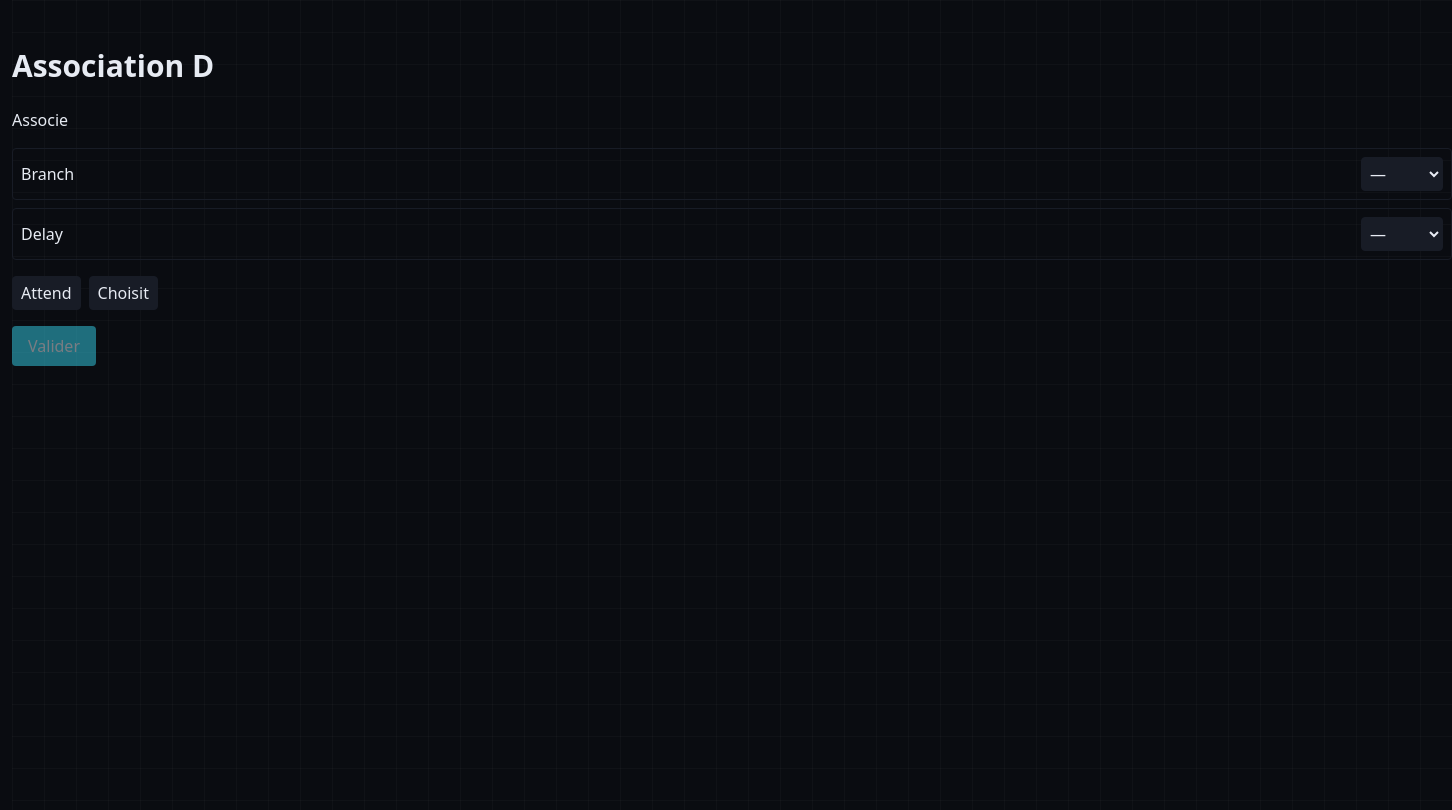
Test: ExerciseWorkspace › type D : un élément de droite ne sert qu'une fois
Select "Choisit" in the dropdown named "Associer Branch à" at {"x": 1402, "y": 174}, box top-left (1361, 157), bottom-right (1443, 191)
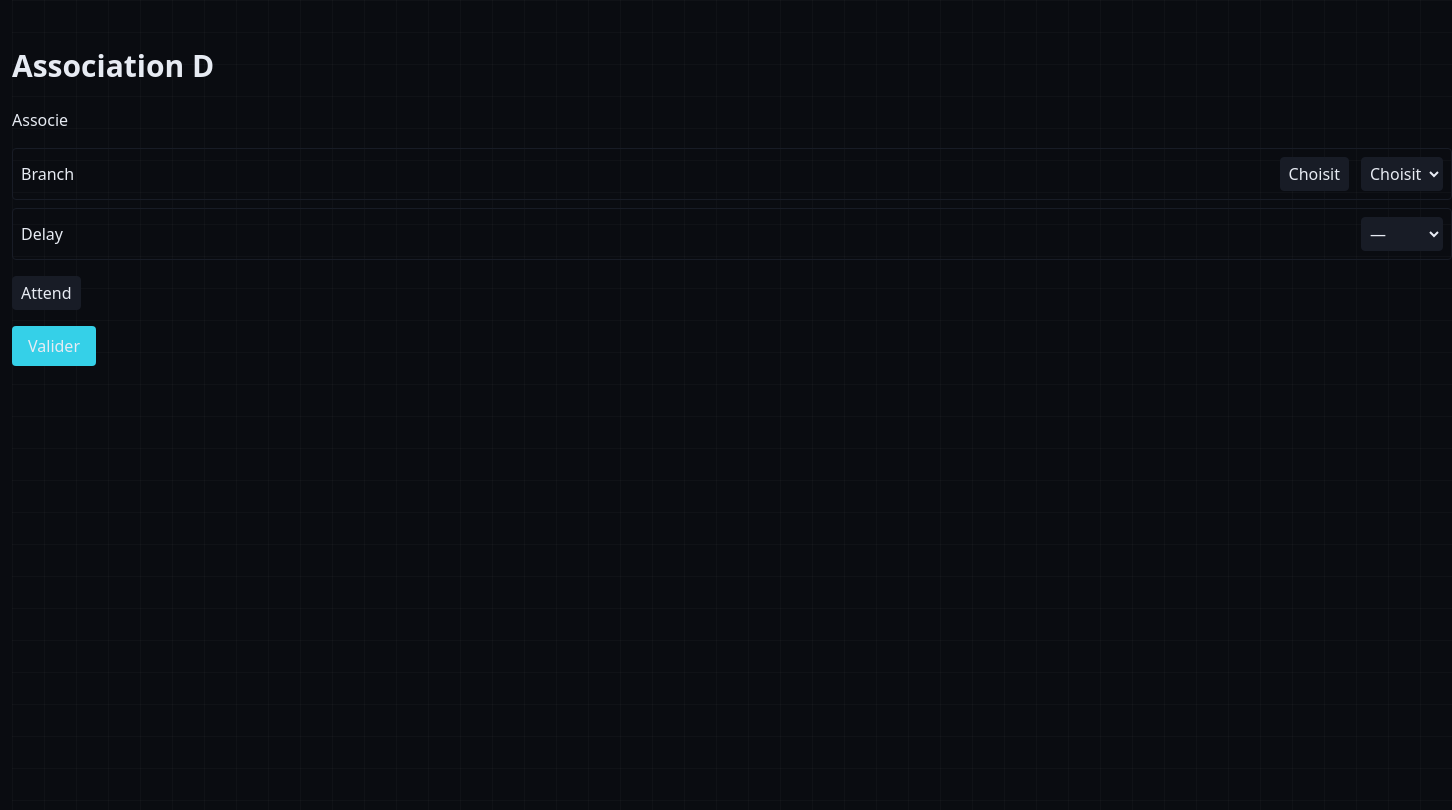
Select "Choisit" in the dropdown named "Associer Delay à" at {"x": 1402, "y": 234}, box top-left (1361, 217), bottom-right (1443, 251)
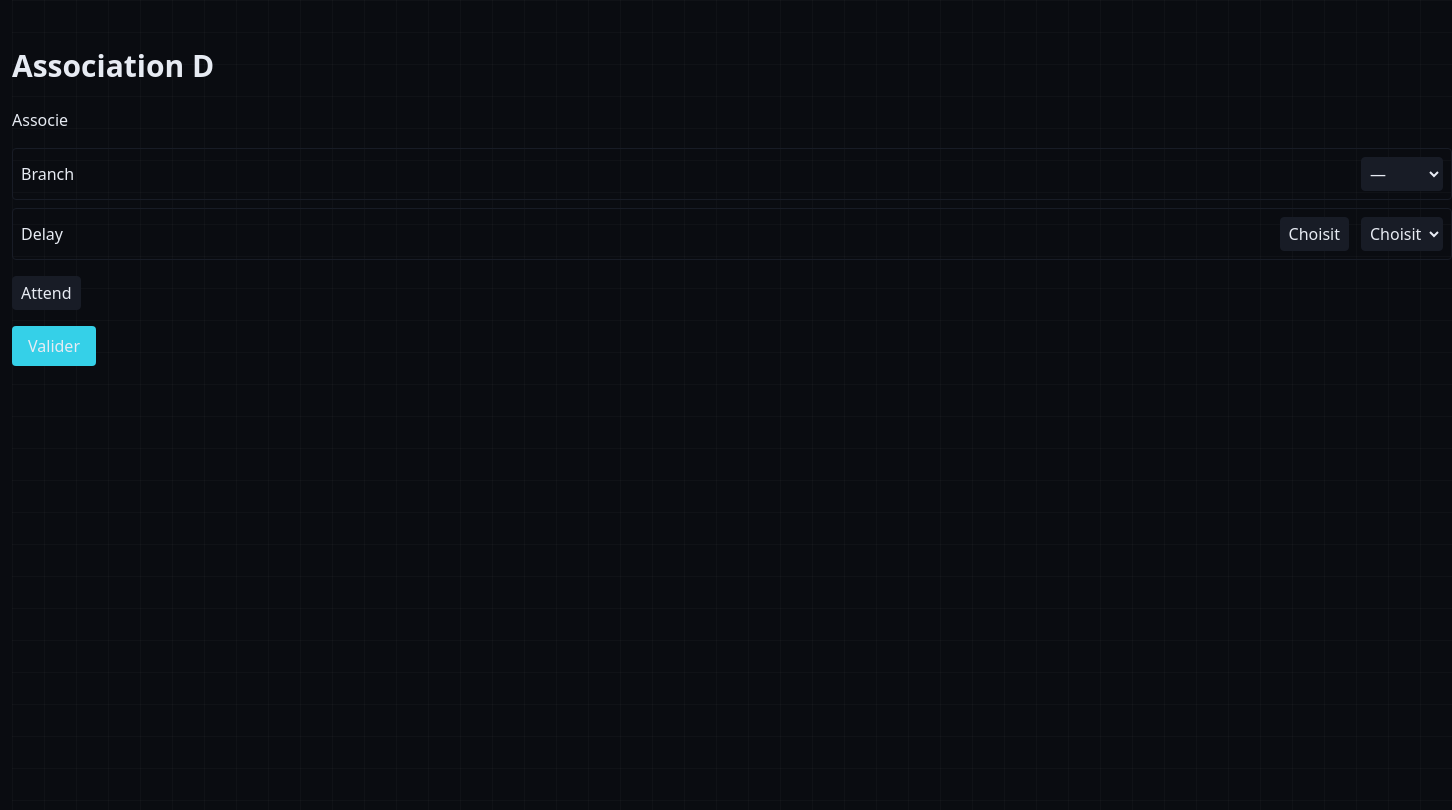
Click the button "Valider" at {"x": 54, "y": 346}, box top-left (12, 326), bottom-right (96, 366)
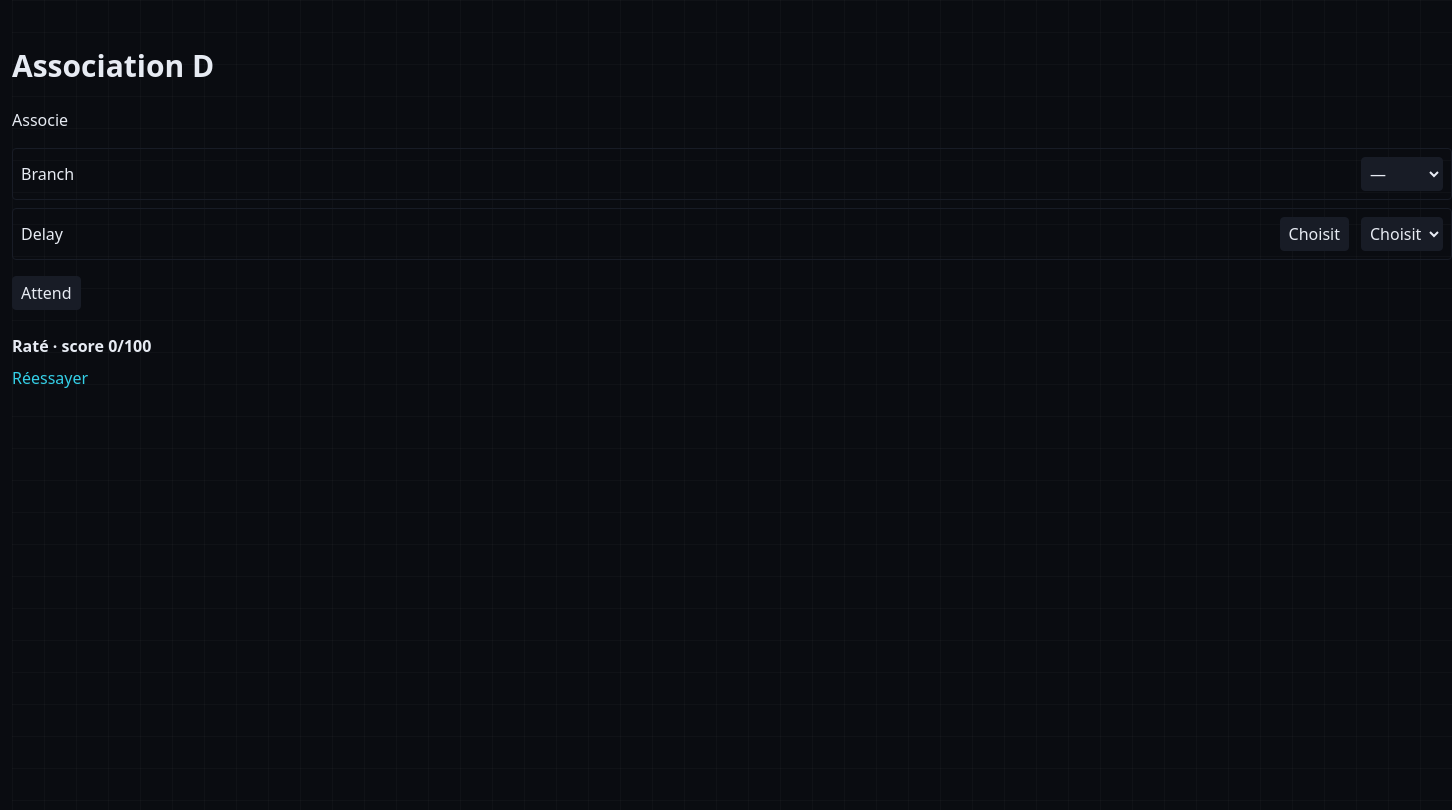
Now the text "Raté · score 0/100" is shown, box top-left (12, 335), bottom-right (151, 357)
